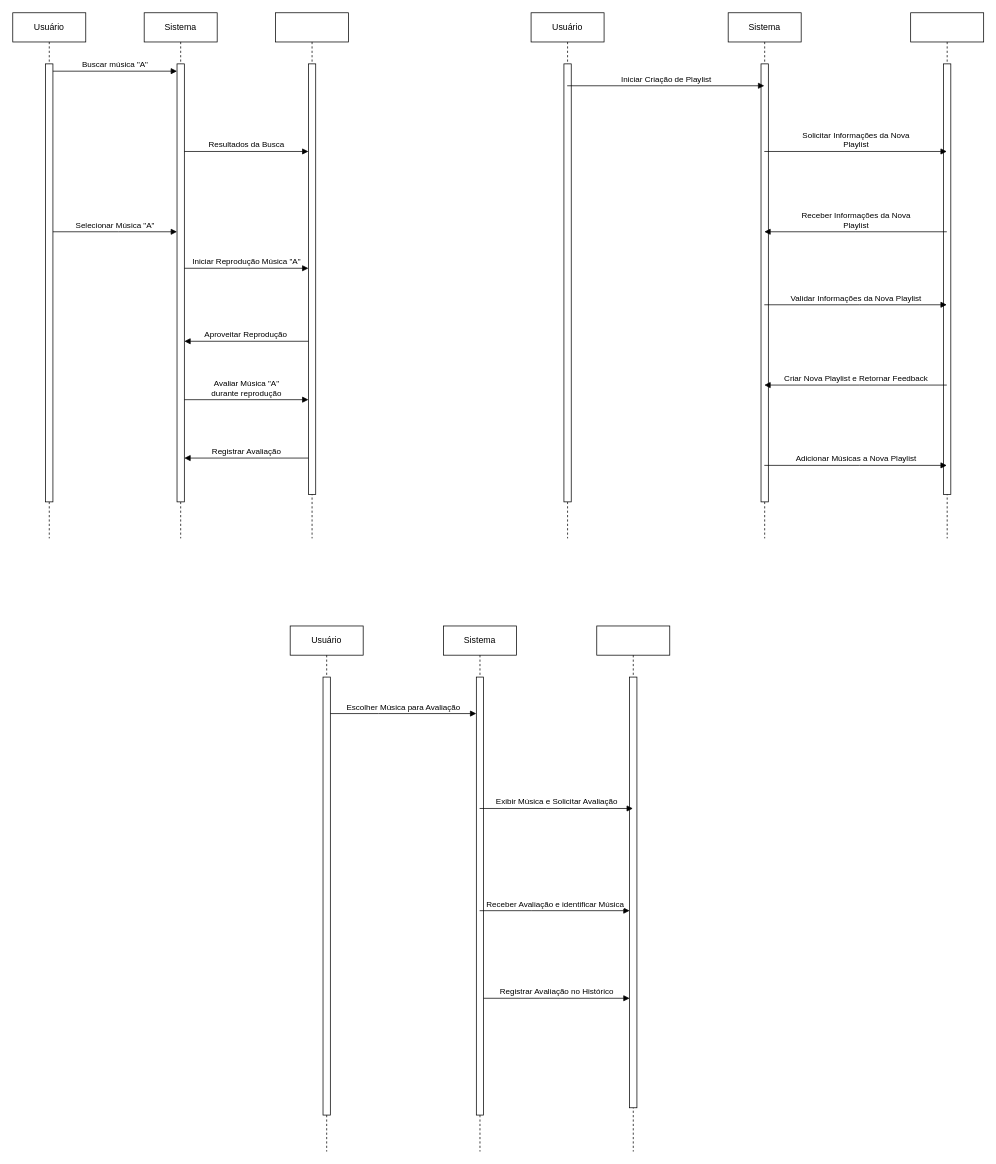
Image size: 996x1164. Some labels were removed from this diagram. Each missing label, with the box of its shape:
Avaliação: (596, 625, 670, 1152)
Música: (275, 12, 349, 538)
Playlist: (910, 12, 984, 538)
